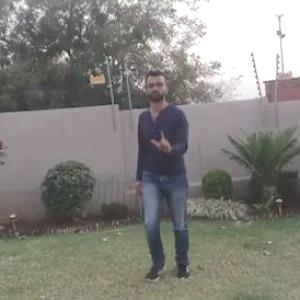land_hand: (144, 124, 178, 156)
